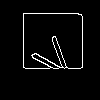V: (24, 27, 78, 84)
